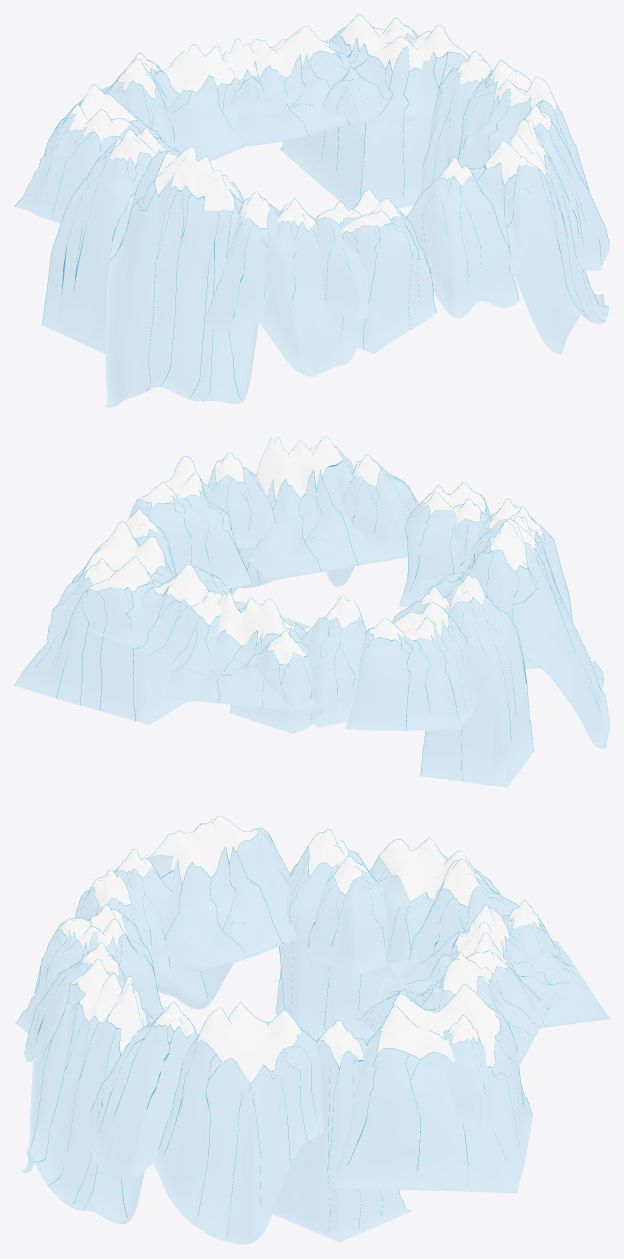
File: cliffs3.glb
3 views of the same model, one above another, from view 1: azimuth 30°, elevation 25°; view 2: azimuth 150°, elevation 25°; view 3: azimuth 270°, elevation 25° (orthographic). The views are drawn at different scales.
Visible parts, largest first — view 1: Landscape.004, Landscape.016; view 2: Landscape.004, Landscape.016; view 3: Landscape.004, Landscape.016.
Boxes of the visible parts, box(x1,y1,x2,y2) form: Landscape.004: box(14, 14, 609, 407); Landscape.016: box(332, 188, 436, 353); Landscape.004: box(14, 436, 609, 787); Landscape.016: box(399, 482, 490, 606); Landscape.004: box(21, 816, 609, 1244); Landscape.016: box(14, 918, 163, 1034).
Bounding box in the file's own units: 110 × 45.78 × 103.
